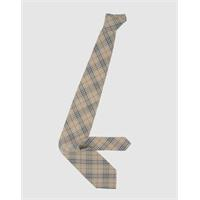tie: (58, 12, 130, 189)
